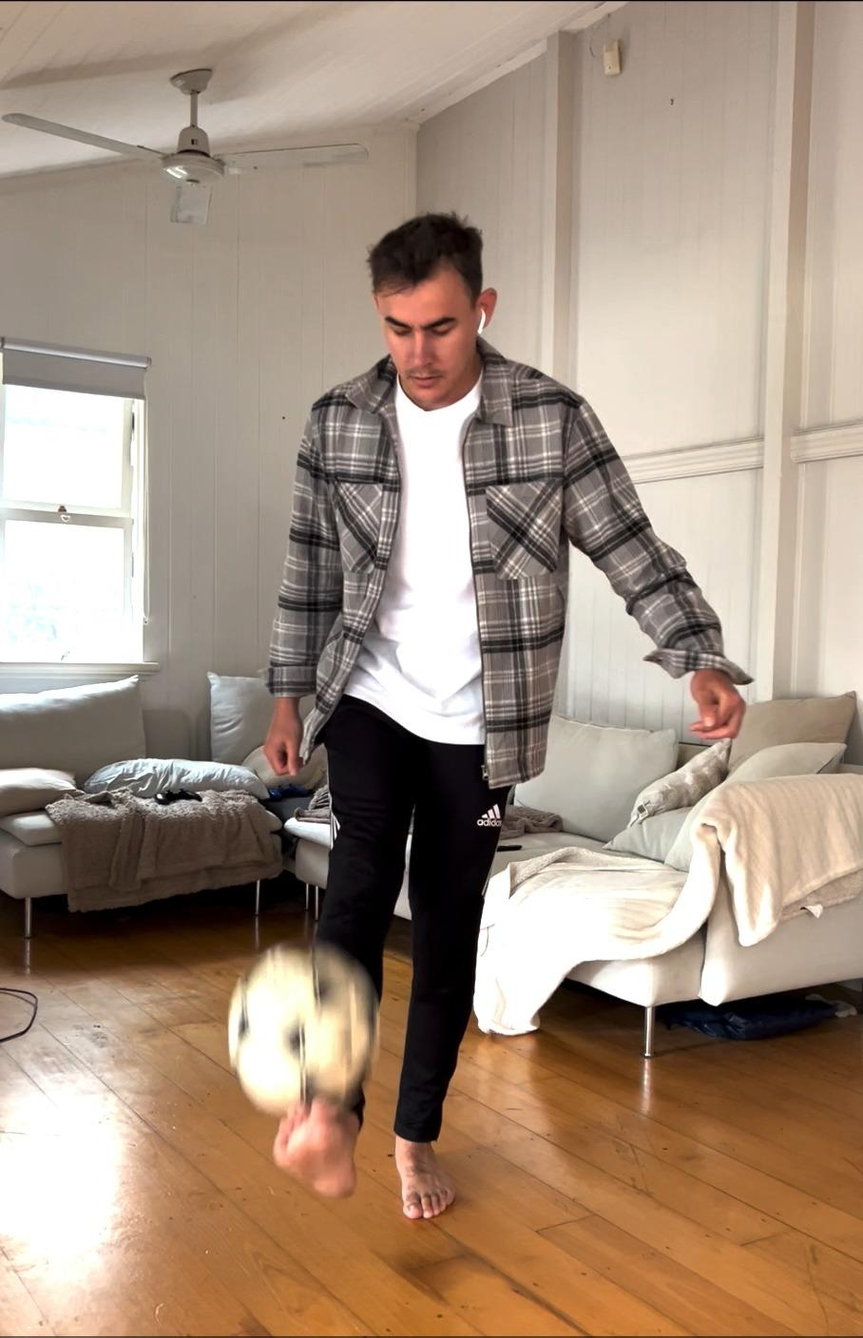ball: (222, 941, 378, 1109)
foot: (274, 1096, 357, 1195), (396, 1135, 456, 1219)
person: (269, 211, 752, 1225)
